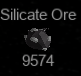Silicate: (1, 7, 77, 68)
